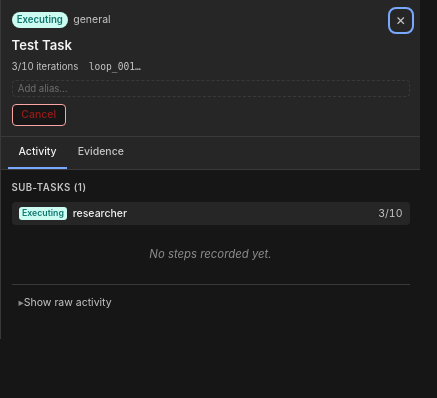
TaskDetailPanel › child loops › names the back button by its visible text (WCAG 2.5.3)
Click the button with test id "child-item" at (43, 213), box x1=12 y1=202 x2=410 y2=225
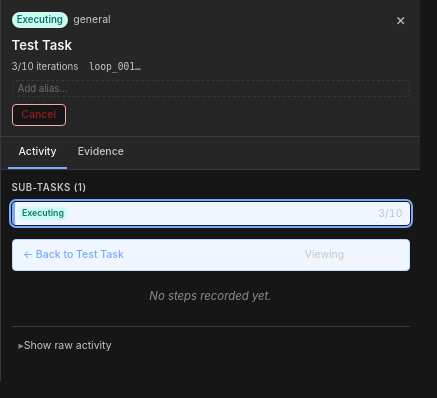
Expected: the button with test id "focus-back" shows "← Back to", x1=20 y1=245 x2=127 y2=264
